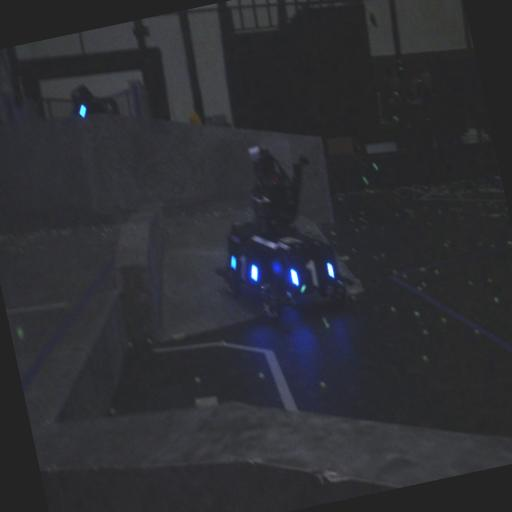target: (287, 252, 342, 301), (226, 247, 267, 300)
